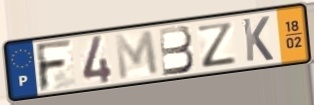4: (80, 33, 115, 87)
B: (157, 23, 197, 78)
F: (33, 37, 75, 94)
K: (240, 14, 276, 64)
M: (112, 28, 162, 83)
Z: (195, 20, 239, 69)
